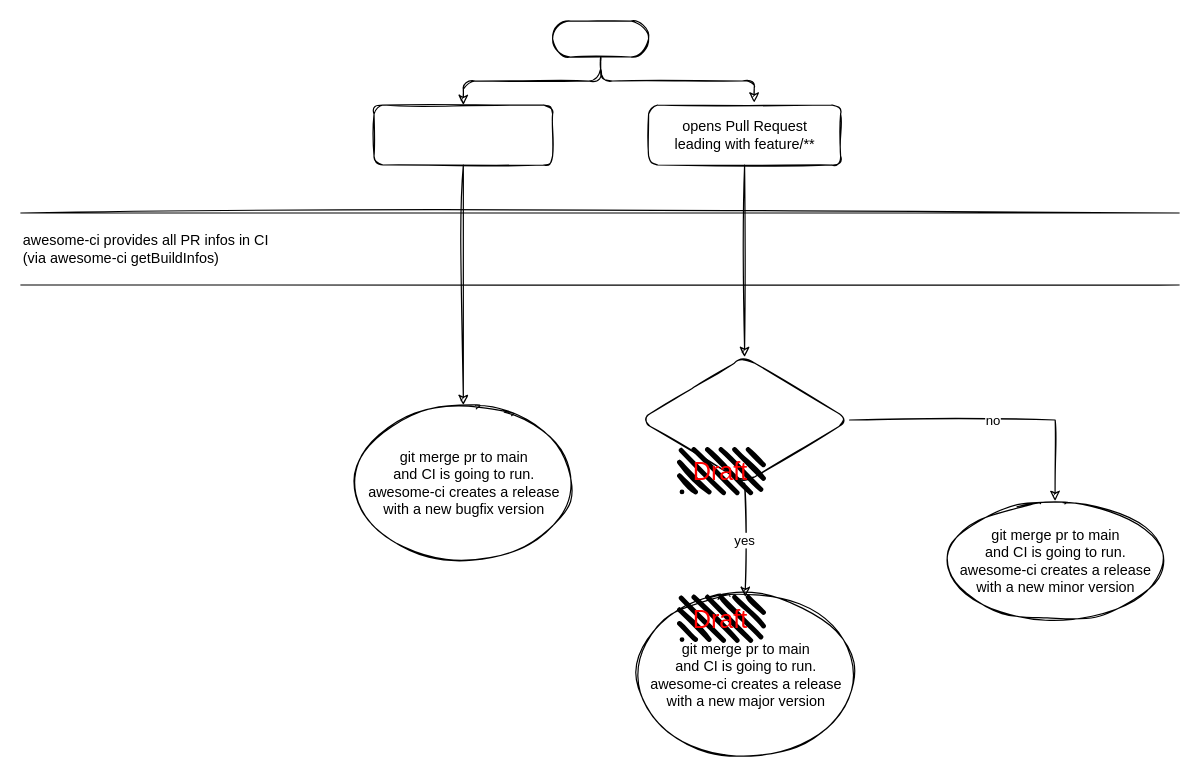
Some shapes in this 1200 by 774 pixel diagram are drawn without their labels. Here are the shapes that lost their labels. From the top down, the box of each, then its label:
(551, 20, 649, 57): Start
(373, 104, 553, 165): opens Pull Request leading with bugfix/**
(638, 356, 850, 483): writes in PR coment: aci=major
